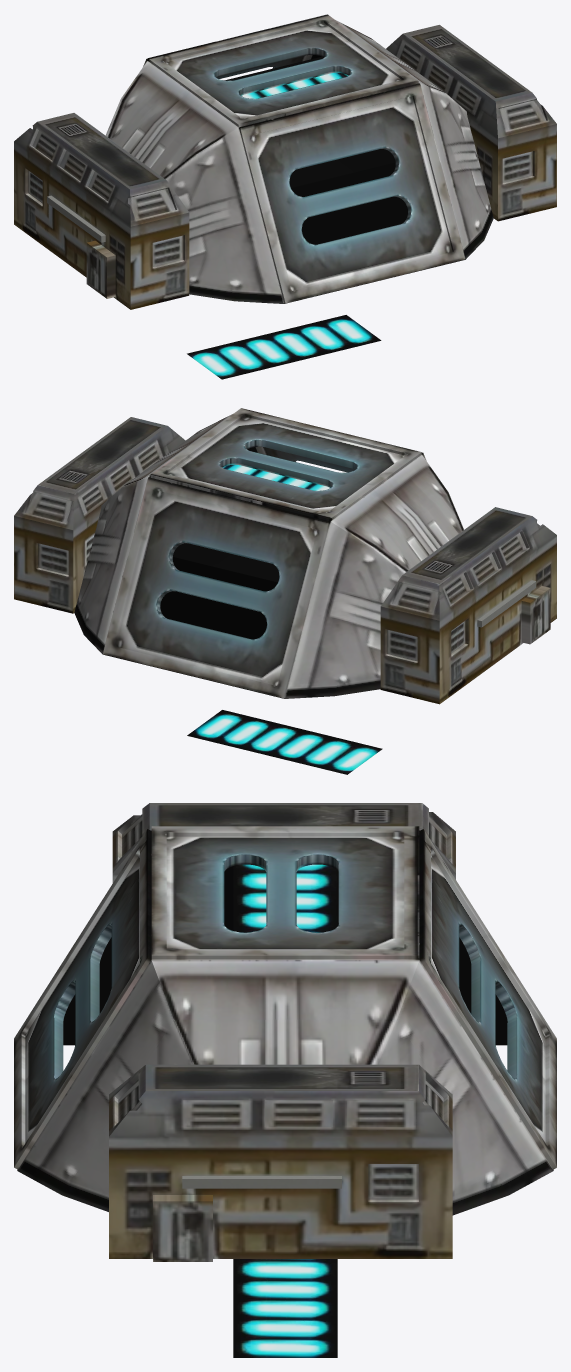
The model's file is l_turretgenerator_cad.glb.
3 views of the same model, one above another, from view 1: azimuth 30°, elevation 25°; view 2: azimuth 150°, elevation 25°; view 3: azimuth 270°, elevation 25° (orthographic). The views are drawn at different scales.
Parts seen in each view (by area): view 1: PowerGenerator, Coil; view 2: PowerGenerator, Coil; view 3: PowerGenerator, Coil.
Boxes of the visible parts, <box> form: PowerGenerator: <box>14,14,556,309</box>; Coil: <box>187,56,381,379</box>; PowerGenerator: <box>14,408,556,704</box>; Coil: <box>187,465,382,774</box>; PowerGenerator: <box>14,803,556,1261</box>; Coil: <box>233,864,337,1357</box>.
Bounding box in the file's own units: 17.48 × 10.49 × 12.63.
2 materials, 2 textured.
